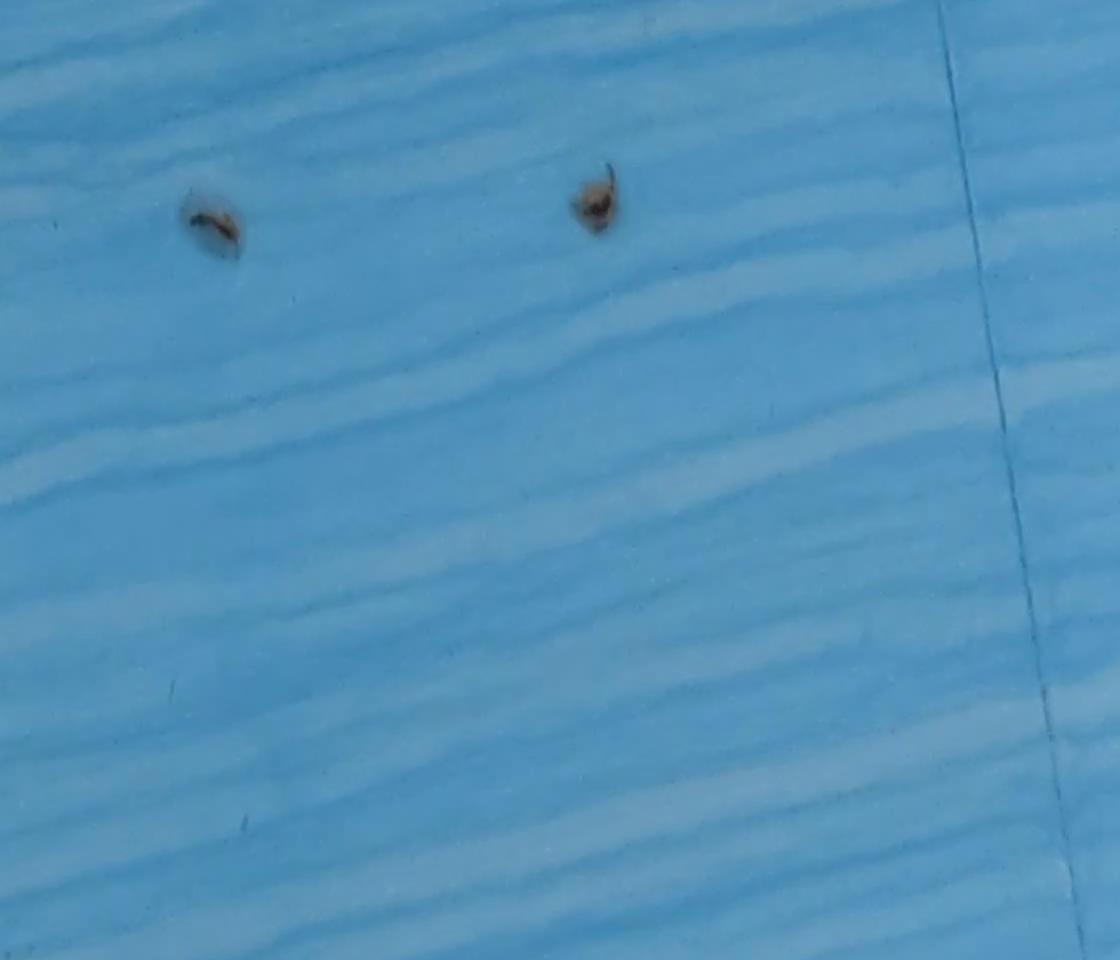rust: (578, 187, 618, 228)
